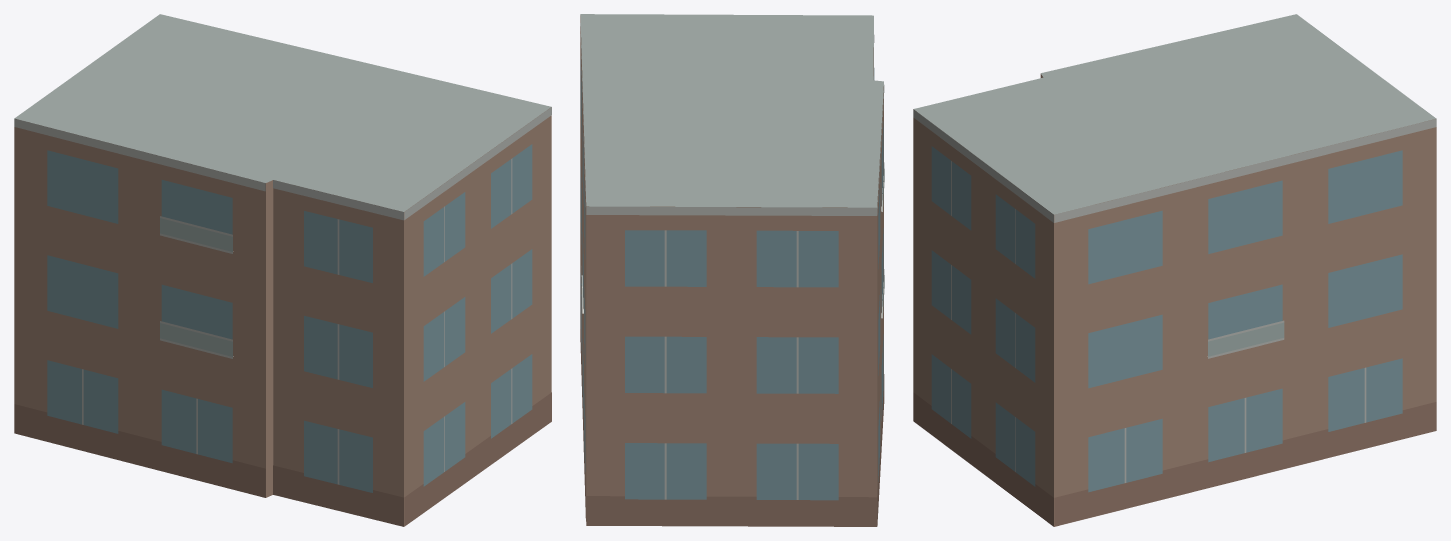
File: survey-upis-32907914.glb
The picture shows the model from 3 angles, left to right: view 1: azimuth 30°, elevation 25°; view 2: azimuth 150°, elevation 25°; view 3: azimuth 270°, elevation 25°; orthographic projection. The views are drawn at different scales.
Parts seen in each view (by area): view 1: survey-upis-32907914.tmp; view 2: survey-upis-32907914.tmp; view 3: survey-upis-32907914.tmp.
Boxes of the visible parts, bbox=[...] form: survey-upis-32907914.tmp: bbox=[14, 14, 551, 526]; survey-upis-32907914.tmp: bbox=[580, 14, 884, 526]; survey-upis-32907914.tmp: bbox=[913, 14, 1436, 526].
Size of the model in its own units: 12.63 by 9.15 by 13.91.
